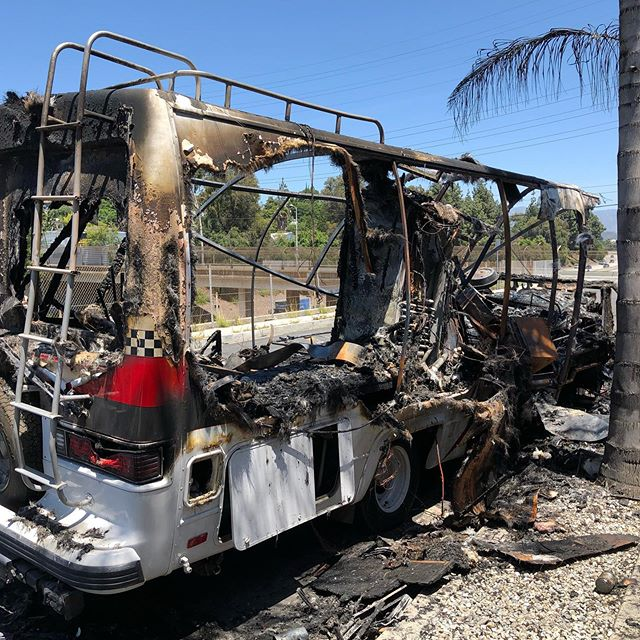bus: (1, 100, 610, 626)
sky: (19, 1, 602, 170)
